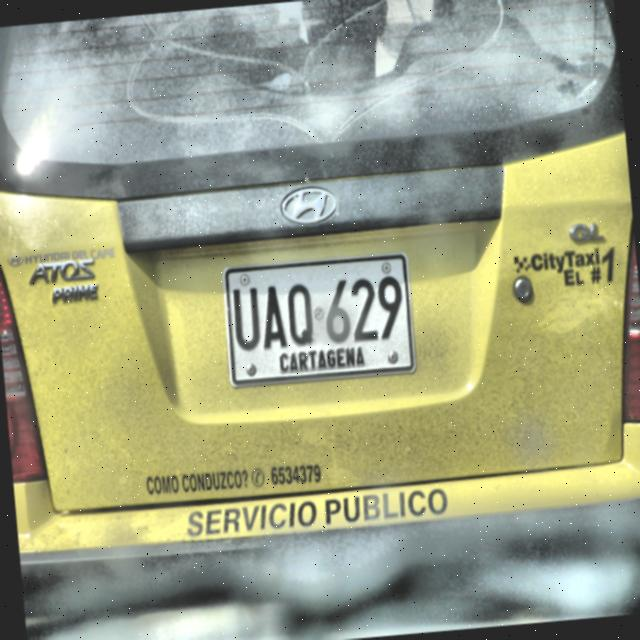2: (348, 276, 380, 342)
6: (321, 272, 353, 346)
9: (374, 272, 406, 344)
A: (258, 283, 288, 349)
Q: (284, 278, 316, 347)
U: (230, 284, 262, 352)
